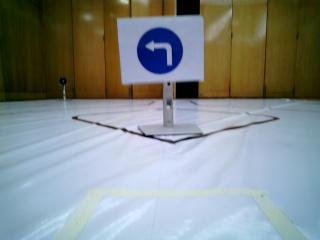left: (122, 22, 205, 81)
